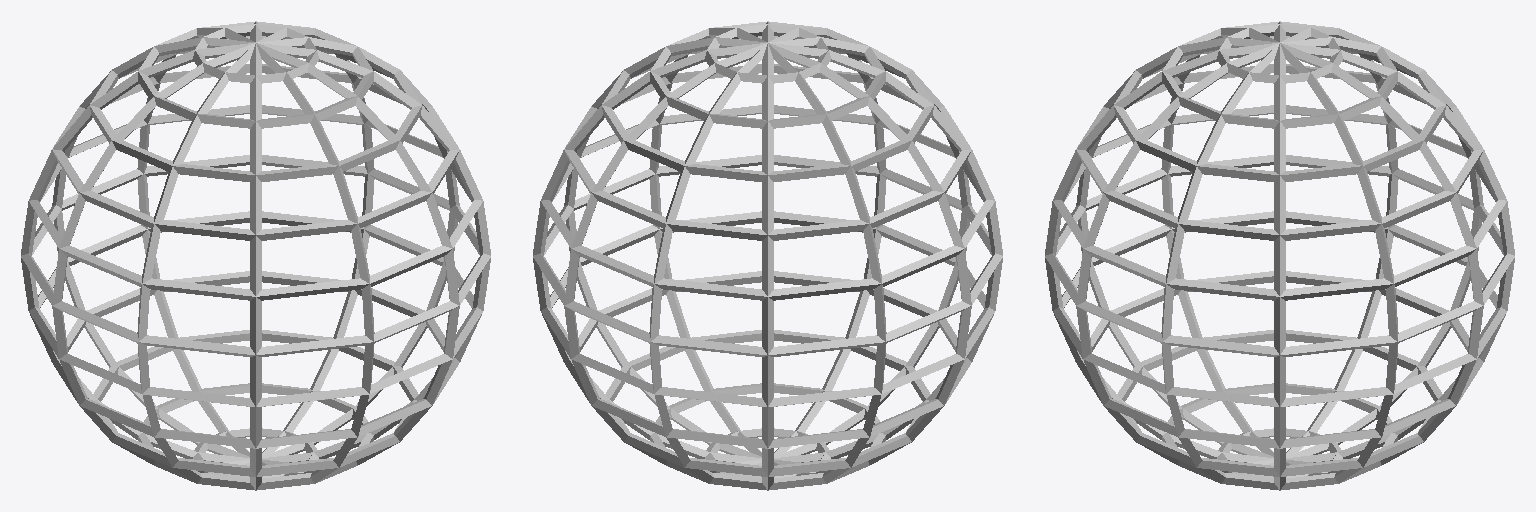
The model's file is Ball.obj.
3 views of the same model, side by side, from view 1: azimuth 30°, elevation 25°; view 2: azimuth 150°, elevation 25°; view 3: azimuth 270°, elevation 25° (orthographic).
Visible parts, largest first — view 1: Ball; view 2: Ball; view 3: Ball.
Part boxes in pixels (x1,y1,x2,y2): Ball: (21, 21, 490, 490); Ball: (533, 21, 1002, 490); Ball: (1045, 21, 1514, 490).
Size of the model in its own units: 3.37 by 3.37 by 3.37.